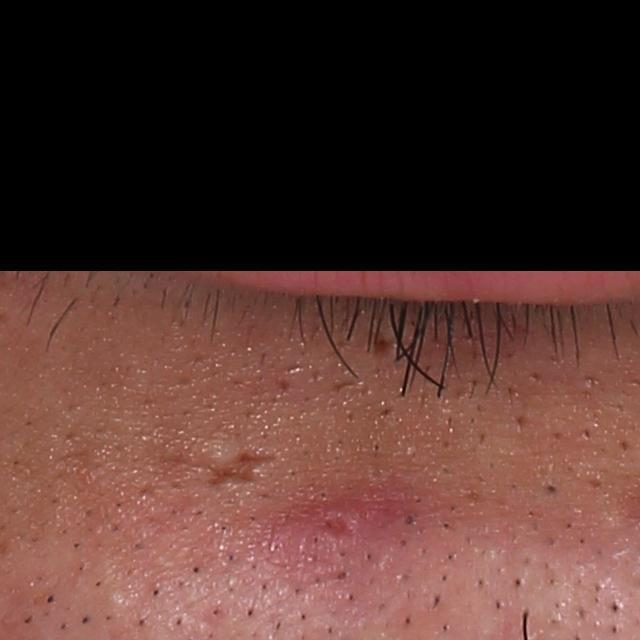atrophic_scar: (214, 448, 287, 487)
hypertrophic_scar: (202, 439, 241, 468)
